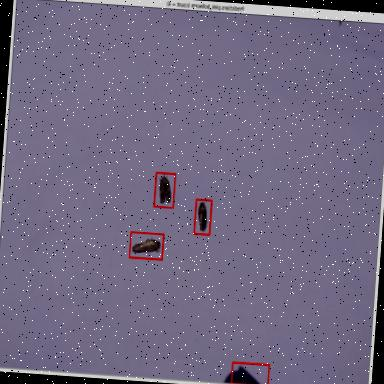pbw: (9, 334, 36, 374)
